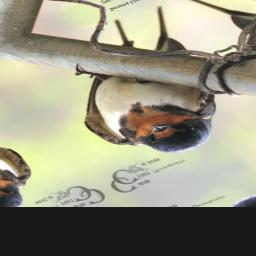Swallow: (10, 4, 256, 170)
